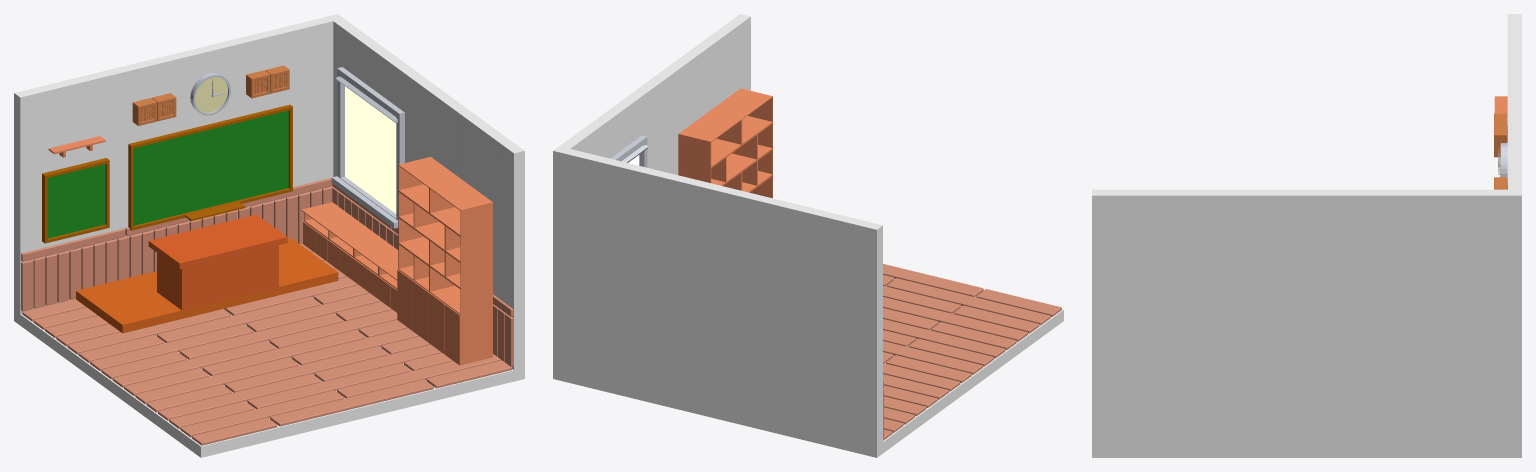
The model's file is classroomMiniColor.gltf.
3 views of the same model, side by side, from view 1: azimuth 30°, elevation 25°; view 2: azimuth 150°, elevation 25°; view 3: azimuth 270°, elevation 25° (orthographic). The views are drawn at different scales.
Parts seen in each view (by area): view 1: 房间, 地板, 书架, 大黑板, 墙壁, 平面, 窗户, 台阶, 柜子, 小黑板, 时钟, 音响 (+3 smaller); view 2: 房间, 地板, 书架, 窗户; view 3: 房间.
Boxes of the visible parts, x1,y1,x2,y2 form: 房间: (14, 14, 524, 457); 地板: (22, 243, 511, 445); 书架: (397, 156, 492, 365); 大黑板: (128, 104, 292, 230); 墙壁: (21, 178, 513, 366); 平面: (148, 214, 287, 310); 窗户: (331, 67, 404, 228); 台阶: (76, 238, 338, 333); 柜子: (301, 202, 398, 312); 小黑板: (42, 158, 109, 243); 时钟: (190, 73, 230, 115); 音响: (132, 98, 156, 125); 房间: (553, 14, 1063, 457); 地板: (883, 264, 1061, 440); 书架: (678, 88, 772, 198); 窗户: (610, 135, 648, 167); 房间: (1092, 14, 1521, 457).
Bounding box in the file's own units: 6 × 4.04 × 6.
